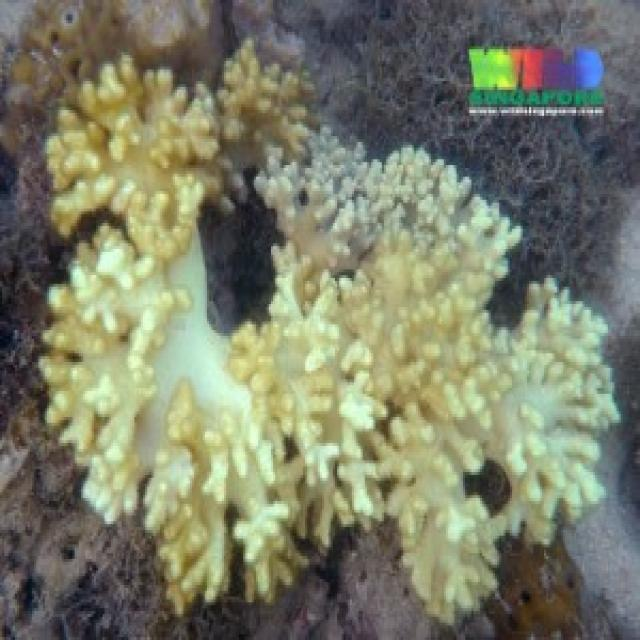Bleached: (246, 128, 618, 621), (39, 224, 246, 609), (44, 56, 231, 421), (216, 39, 315, 166)
